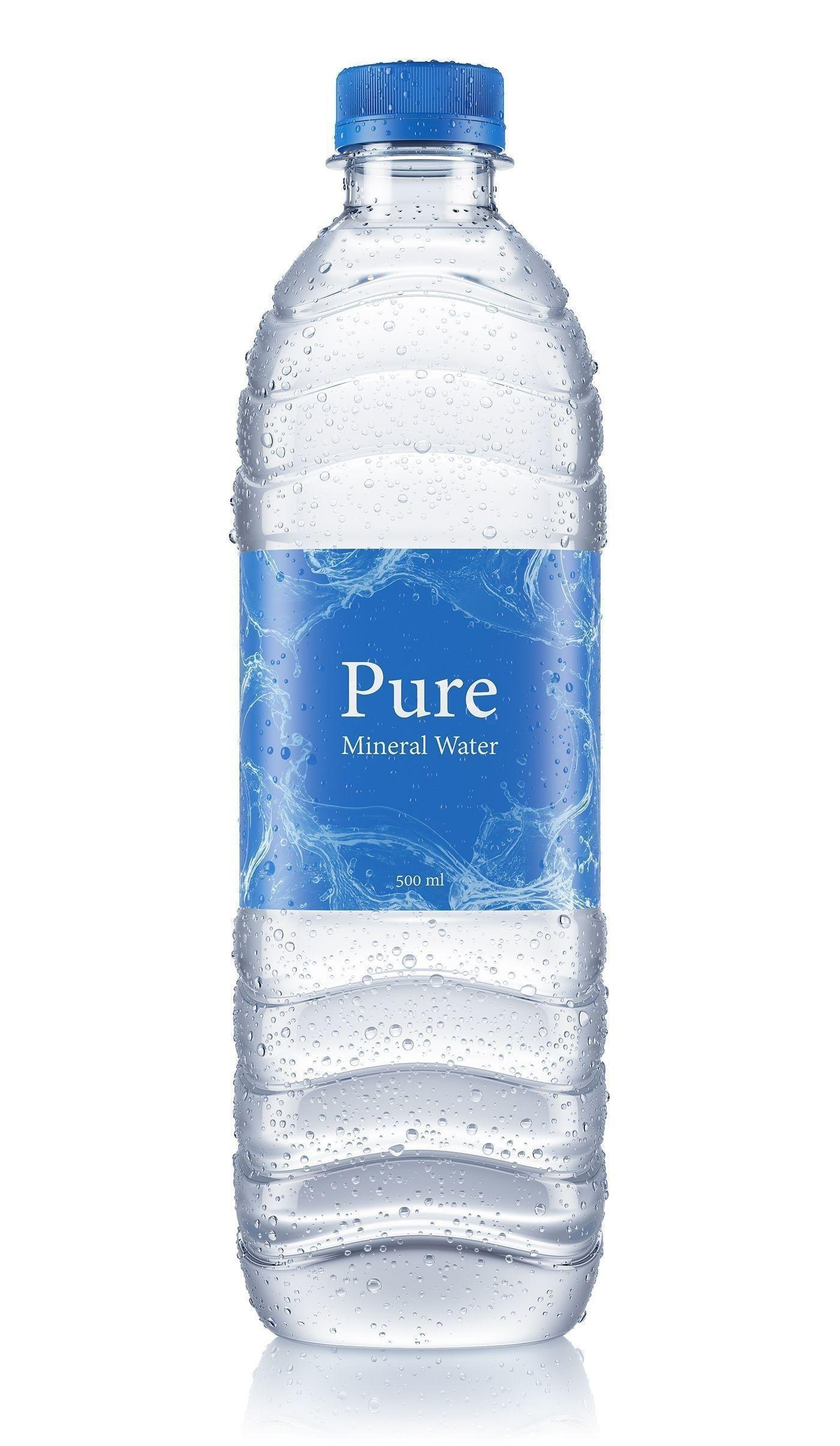bottle-plastic: (218, 50, 623, 1361)
